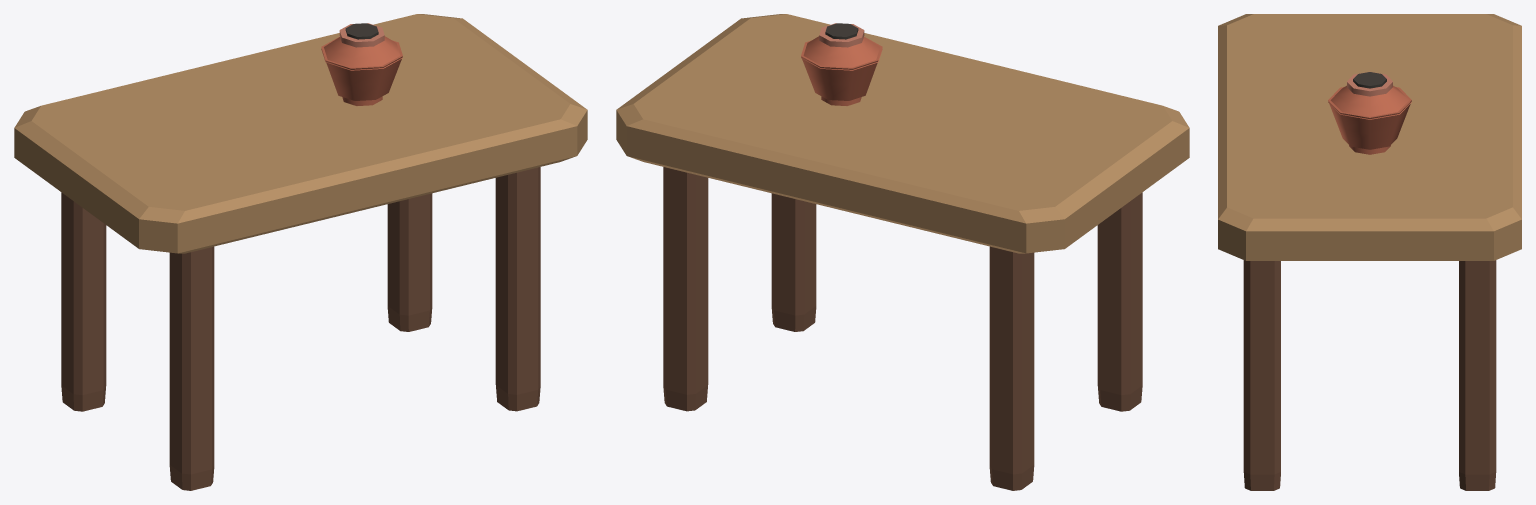
The model's file is table.glb.
3 renders of one model, left to right at view 1: azimuth 30°, elevation 25°; view 2: azimuth 150°, elevation 25°; view 3: azimuth 270°, elevation 25°, orthographic.
Visible parts, largest first — view 1: TableTop, _MeshInstance3D_166, _MeshInstance3D_168, TableLeg, _MeshInstance3D_167, PotBelly, PotShoulder; view 2: TableTop, TableLeg, _MeshInstance3D_167, _MeshInstance3D_166, _MeshInstance3D_168, PotBelly, PotShoulder; view 3: TableTop, _MeshInstance3D_167, _MeshInstance3D_168, PotBelly, PotShoulder, PotRim, PotOpening.
Boxes of the visible parts, bbox=[...] form: TableTop: bbox=[14, 14, 587, 253]; _MeshInstance3D_166: bbox=[169, 246, 214, 490]; _MeshInstance3D_168: bbox=[495, 167, 540, 411]; TableLeg: bbox=[61, 192, 106, 411]; _MeshInstance3D_167: bbox=[387, 193, 432, 331]; PotBelly: bbox=[321, 36, 402, 100]; PotShoulder: bbox=[321, 36, 402, 70]; TableTop: bbox=[616, 14, 1189, 253]; TableLeg: bbox=[989, 246, 1034, 490]; _MeshInstance3D_167: bbox=[663, 167, 708, 411]; _MeshInstance3D_166: bbox=[1097, 192, 1142, 411]; _MeshInstance3D_168: bbox=[771, 193, 816, 331]; PotBelly: bbox=[801, 36, 882, 100]; PotShoulder: bbox=[801, 36, 882, 70]; TableTop: bbox=[1218, 14, 1521, 260]; _MeshInstance3D_167: bbox=[1459, 260, 1496, 490]; _MeshInstance3D_168: bbox=[1243, 260, 1280, 490]; PotBelly: bbox=[1328, 87, 1411, 149]; PotShoulder: bbox=[1328, 85, 1411, 119]; PotRim: bbox=[1347, 71, 1392, 96]; PotOpening: bbox=[1353, 72, 1386, 88].
Bounding box in the file's own units: 1.1 × 0.838 × 0.65.
